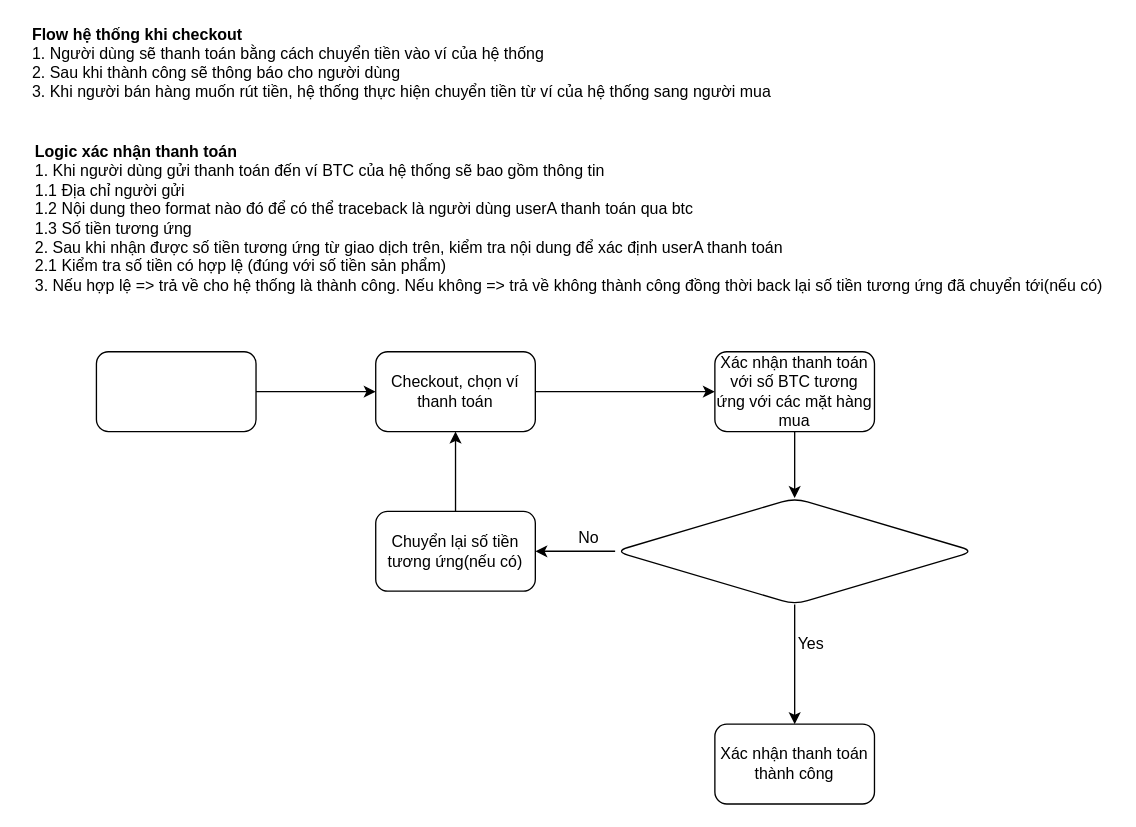
The diagram is 1136 pixels wide and 827 high, and some of its shapes have lost their labels. The shapes that lost their labels are listed below. From the top down, each one's centre as x and y in pixels, then its label:
At pixel 175 391: "Người dùng mua hàng, đến bước checkout".
At pixel 794 550: "Logic xác nhận thanh toán".
